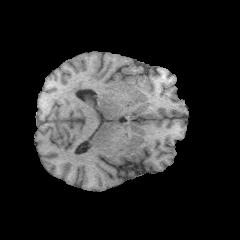glioma: (64, 78, 111, 133)
